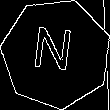N_S: (33, 26, 80, 81)
